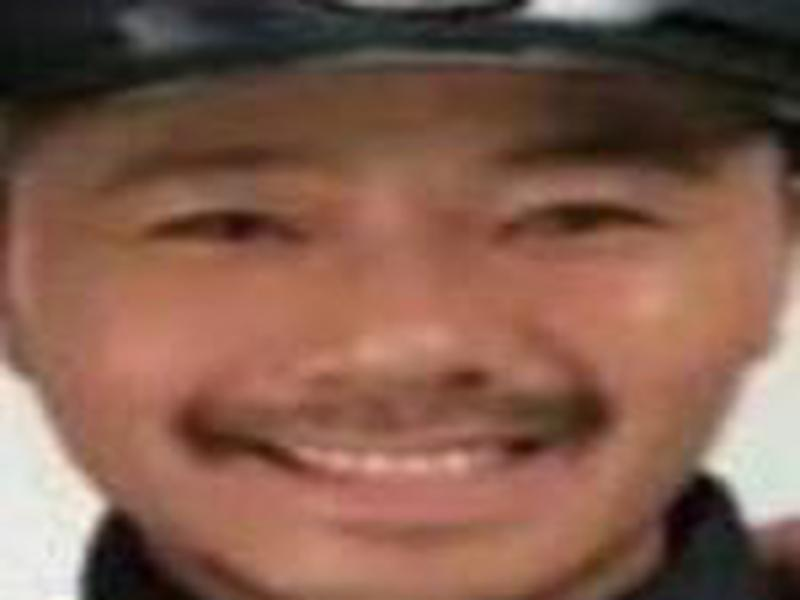without_mask: (6, 116, 795, 600)
